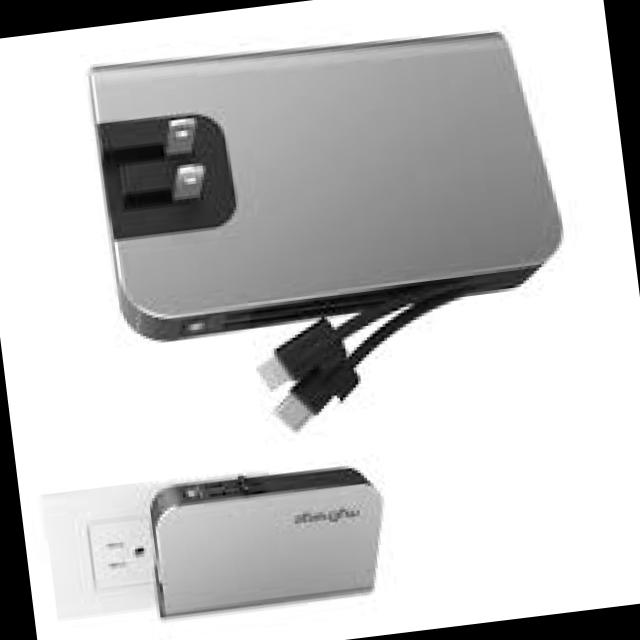power_bank: (83, 15, 572, 348), (142, 463, 397, 622)
